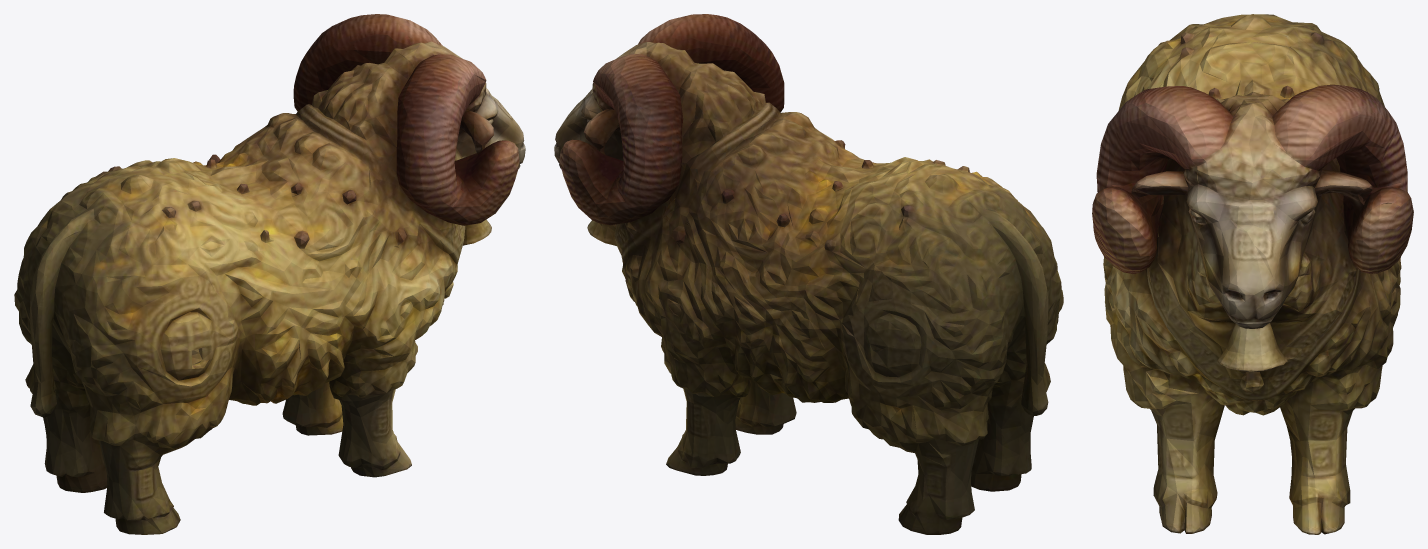
File: emberlamb__fleeceKeeper.glb
The picture shows the model from 3 angles, left to right: view 1: azimuth 30°, elevation 25°; view 2: azimuth 150°, elevation 25°; view 3: azimuth 270°, elevation 25°; orthographic projection. The views are drawn at different scales.
Parts seen in each view (by area): view 1: world; view 2: world; view 3: world.
Boxes of the visible parts, left/top/right/bottom form: world: left=14, top=14, right=525, bottom=534; world: left=554, top=14, right=1063, bottom=534; world: left=1092, top=14, right=1413, bottom=534.
Size of the model in its own units: 0.9994 by 0.7705 by 0.487.
Materials: 1 (1 with a texture image).
